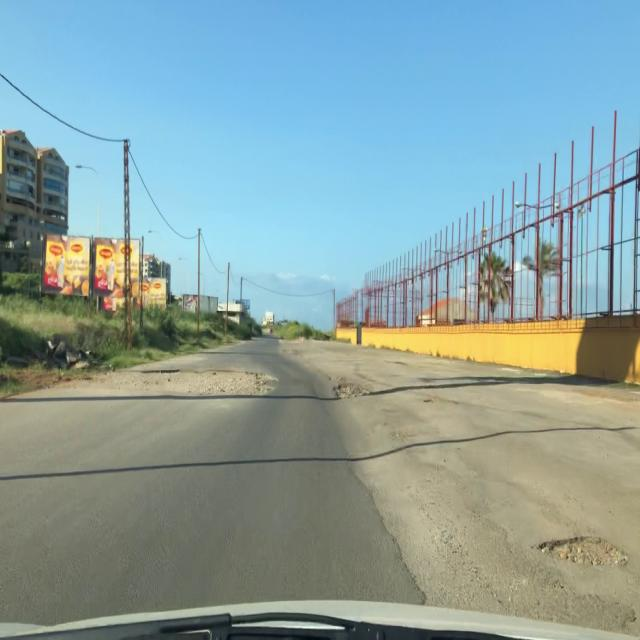Pothole: (532, 522, 636, 584), (137, 368, 275, 399), (332, 381, 372, 401)
